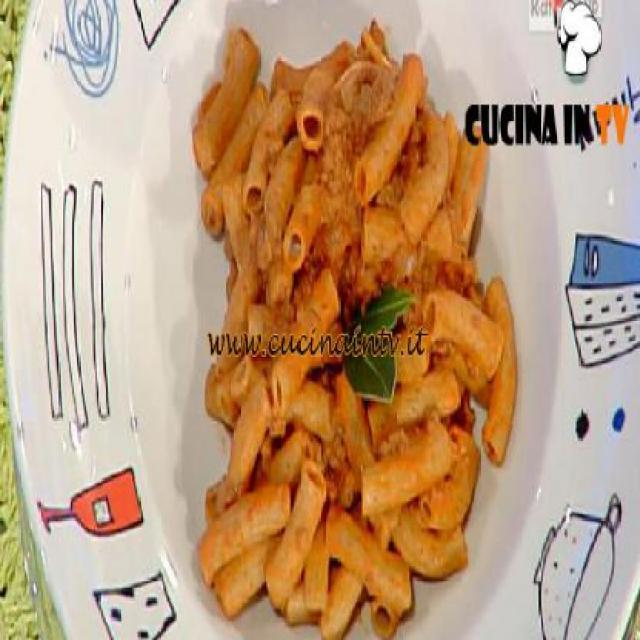Pasta al ragu: (154, 11, 550, 596)
